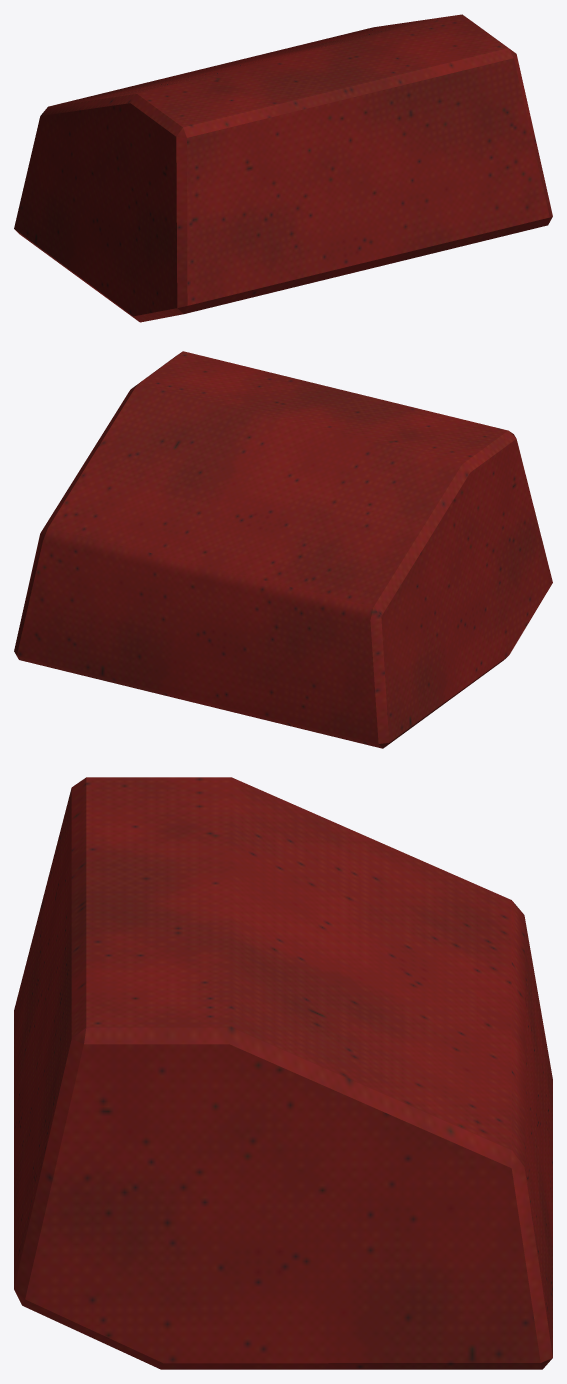
Rendered from AlarmClock.fbx.
3 views of the same model, one above another, from view 1: azimuth 30°, elevation 25°; view 2: azimuth 150°, elevation 25°; view 3: azimuth 270°, elevation 25° (orthographic). The views are drawn at different scales.
Visible parts, largest first — view 1: AlarmClock; view 2: AlarmClock; view 3: AlarmClock.
Boxes of the visible parts, bbox=[...] form: AlarmClock: bbox=[14, 14, 552, 322]; AlarmClock: bbox=[14, 351, 552, 748]; AlarmClock: bbox=[14, 777, 552, 1369].
Bounding box in the file's own units: 0.2827 × 0.1492 × 0.2227.
1 material, 1 textured.
